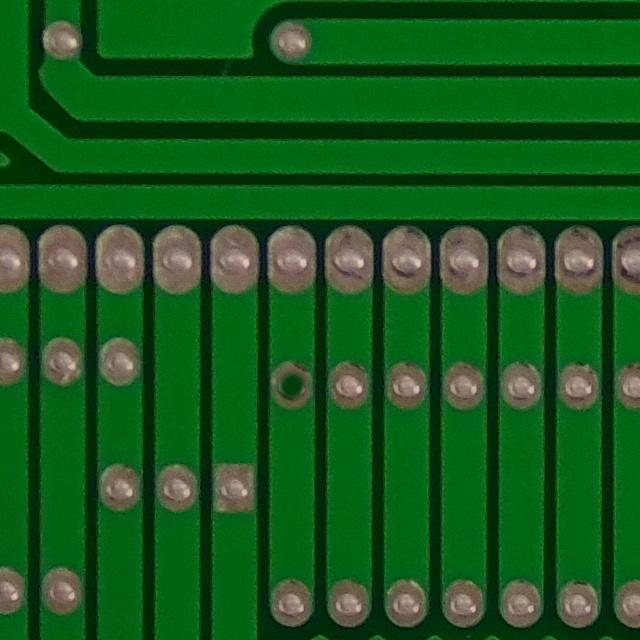missing_hole: (262, 351, 321, 422)
